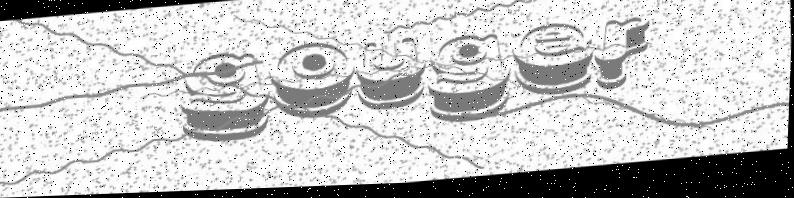e: (507, 21, 600, 101)
g: (175, 43, 276, 147), (422, 32, 519, 130)
o: (266, 36, 361, 126)
r: (591, 13, 657, 98)
u: (350, 35, 432, 119)
